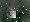person: (8, 9, 16, 18)
